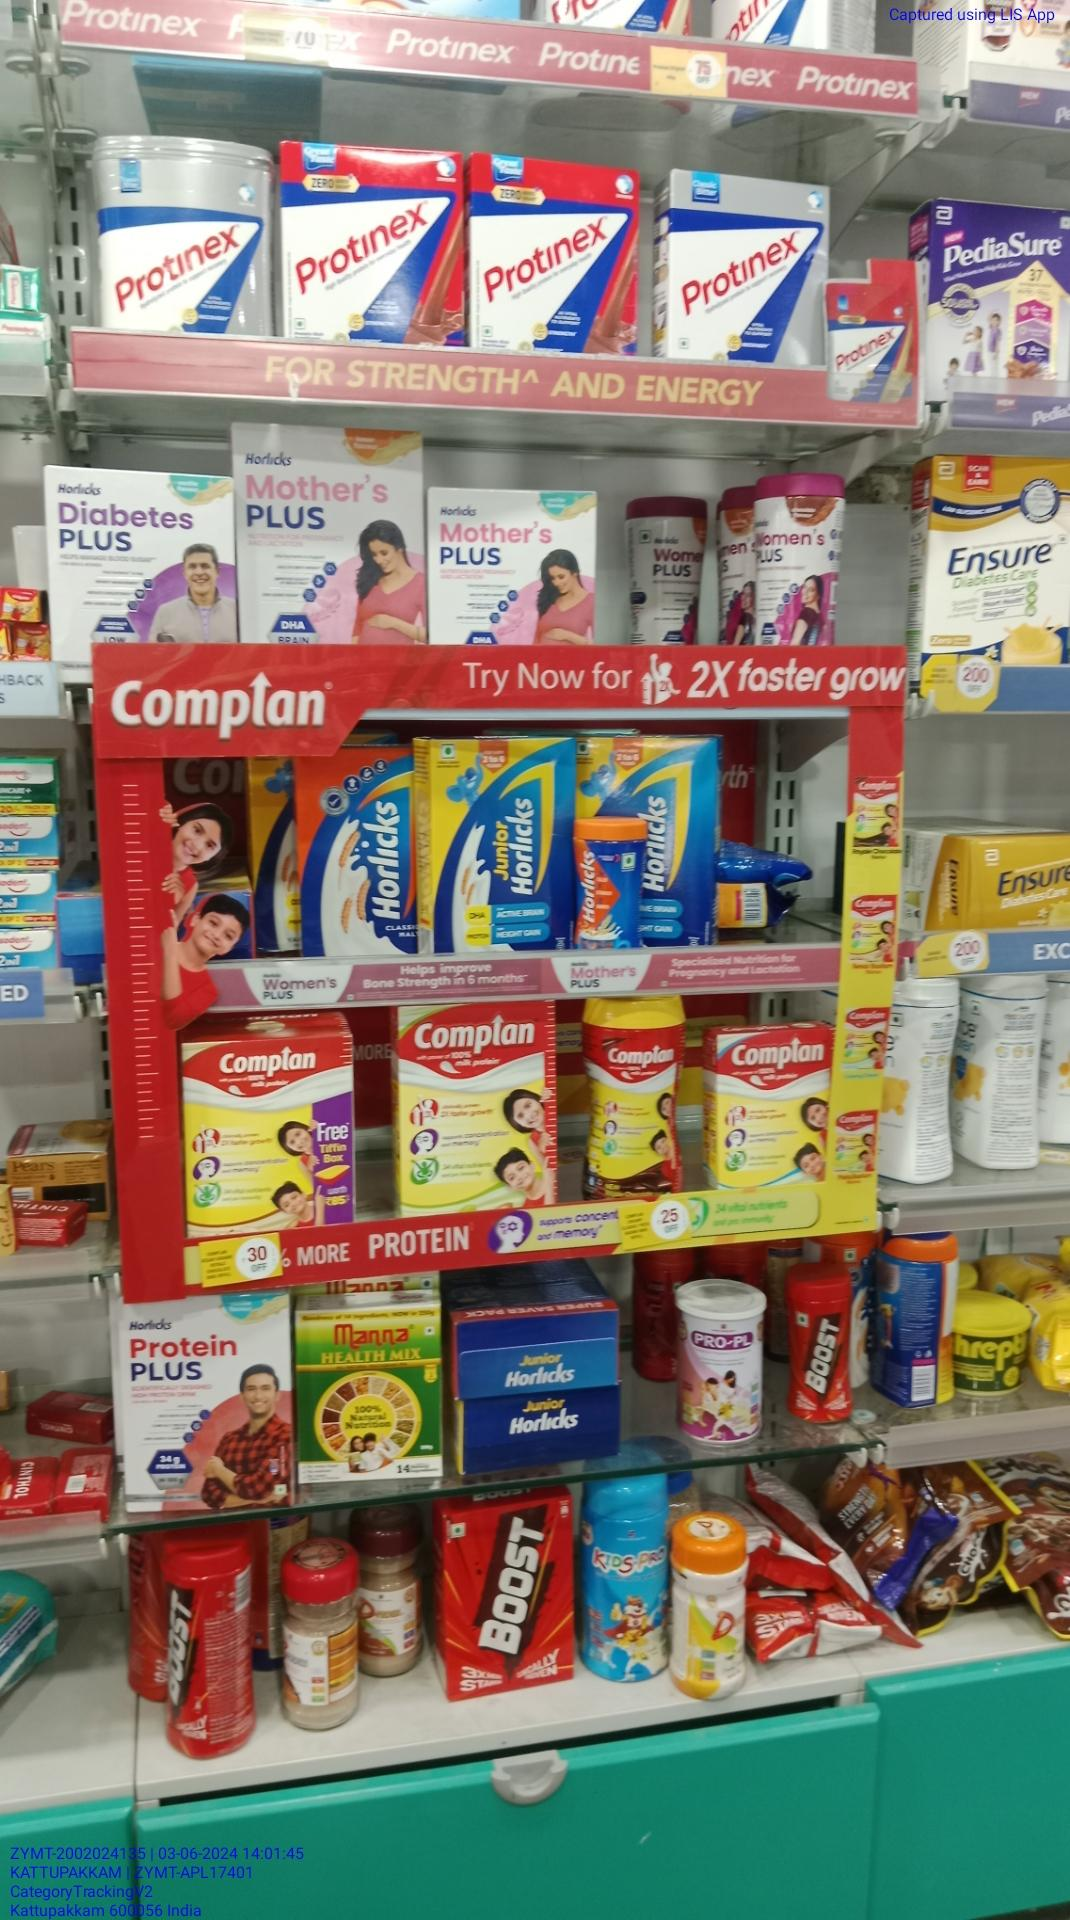COMPLAN_CHOCOLATE_500_GMS_JAR: (584, 1008, 683, 1191)
COMPLAN_CREAMY_CLASSIC_500_G_PACK: (718, 1038, 825, 1179)
COMPLAN_PISTA_BADAM_500_GMS_PACK: (401, 1005, 555, 1210)
ENSURE_VANILLA_400_G_PACK: (928, 452, 1070, 660)
HORLICK_CLASSIC_MALT_200_G_JAR: (577, 822, 640, 949)
PEDIASURE_CHOCOLATE_500_G_PACK: (924, 199, 1070, 398)
PROTINEX_ORIGINAL_400_G_JAR: (99, 137, 273, 332)
